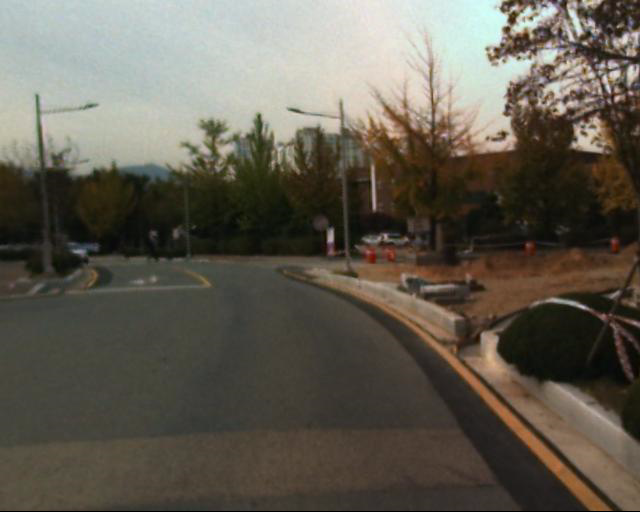person: (133, 232, 165, 268)
